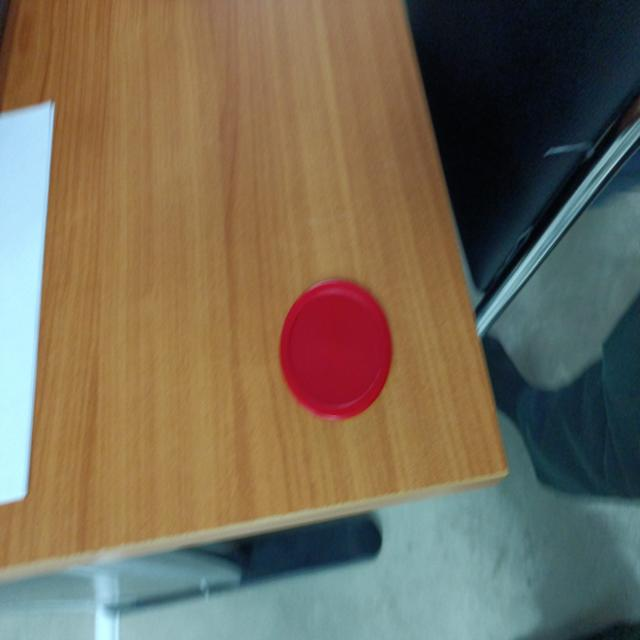chip: (278, 274, 396, 422)
